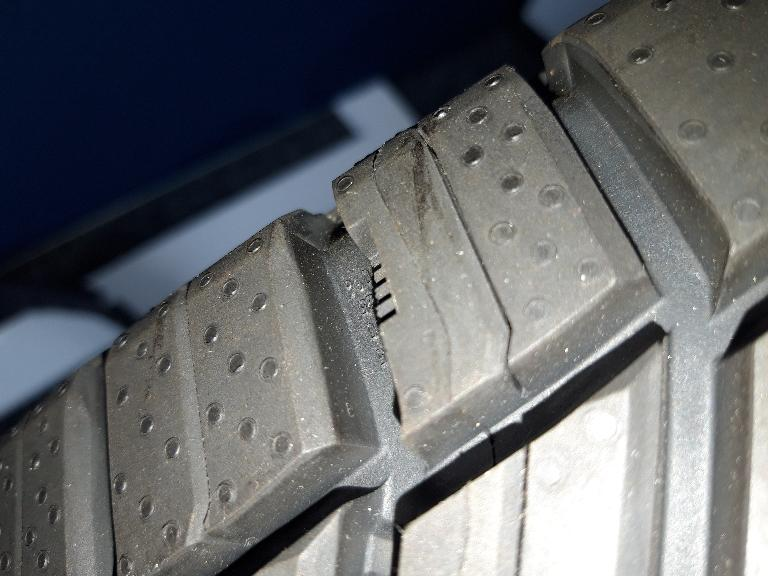temoin:100: (343, 216, 403, 357)
